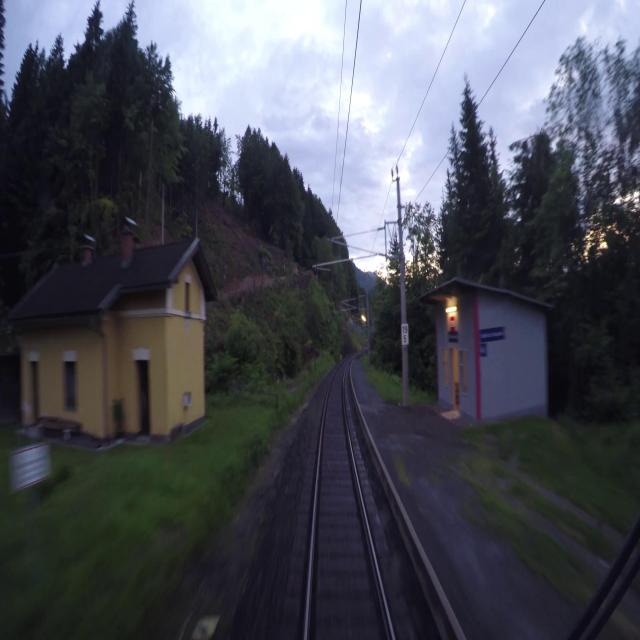rail-track: (308, 361, 391, 639)
